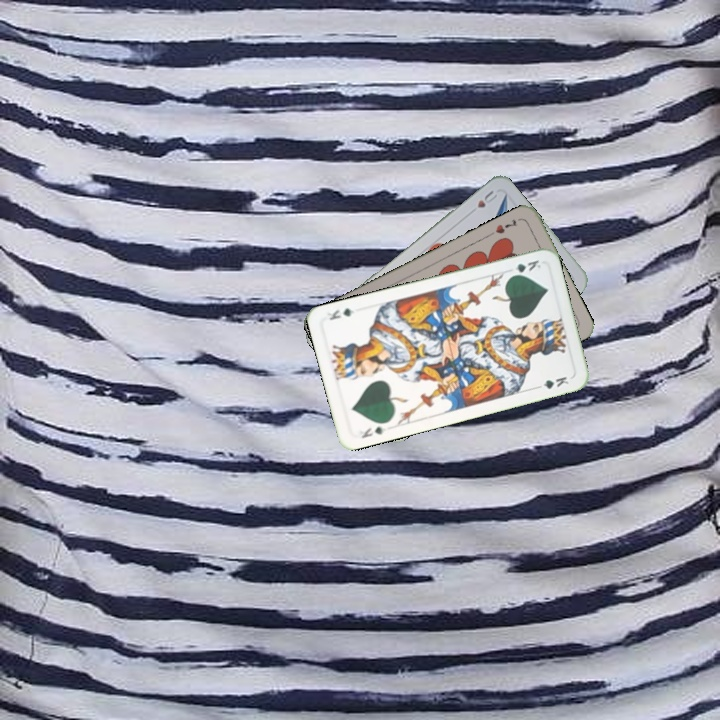GK: (506, 256, 543, 279), (356, 422, 389, 441)
H7: (486, 215, 520, 239)
HU: (473, 186, 500, 211)
